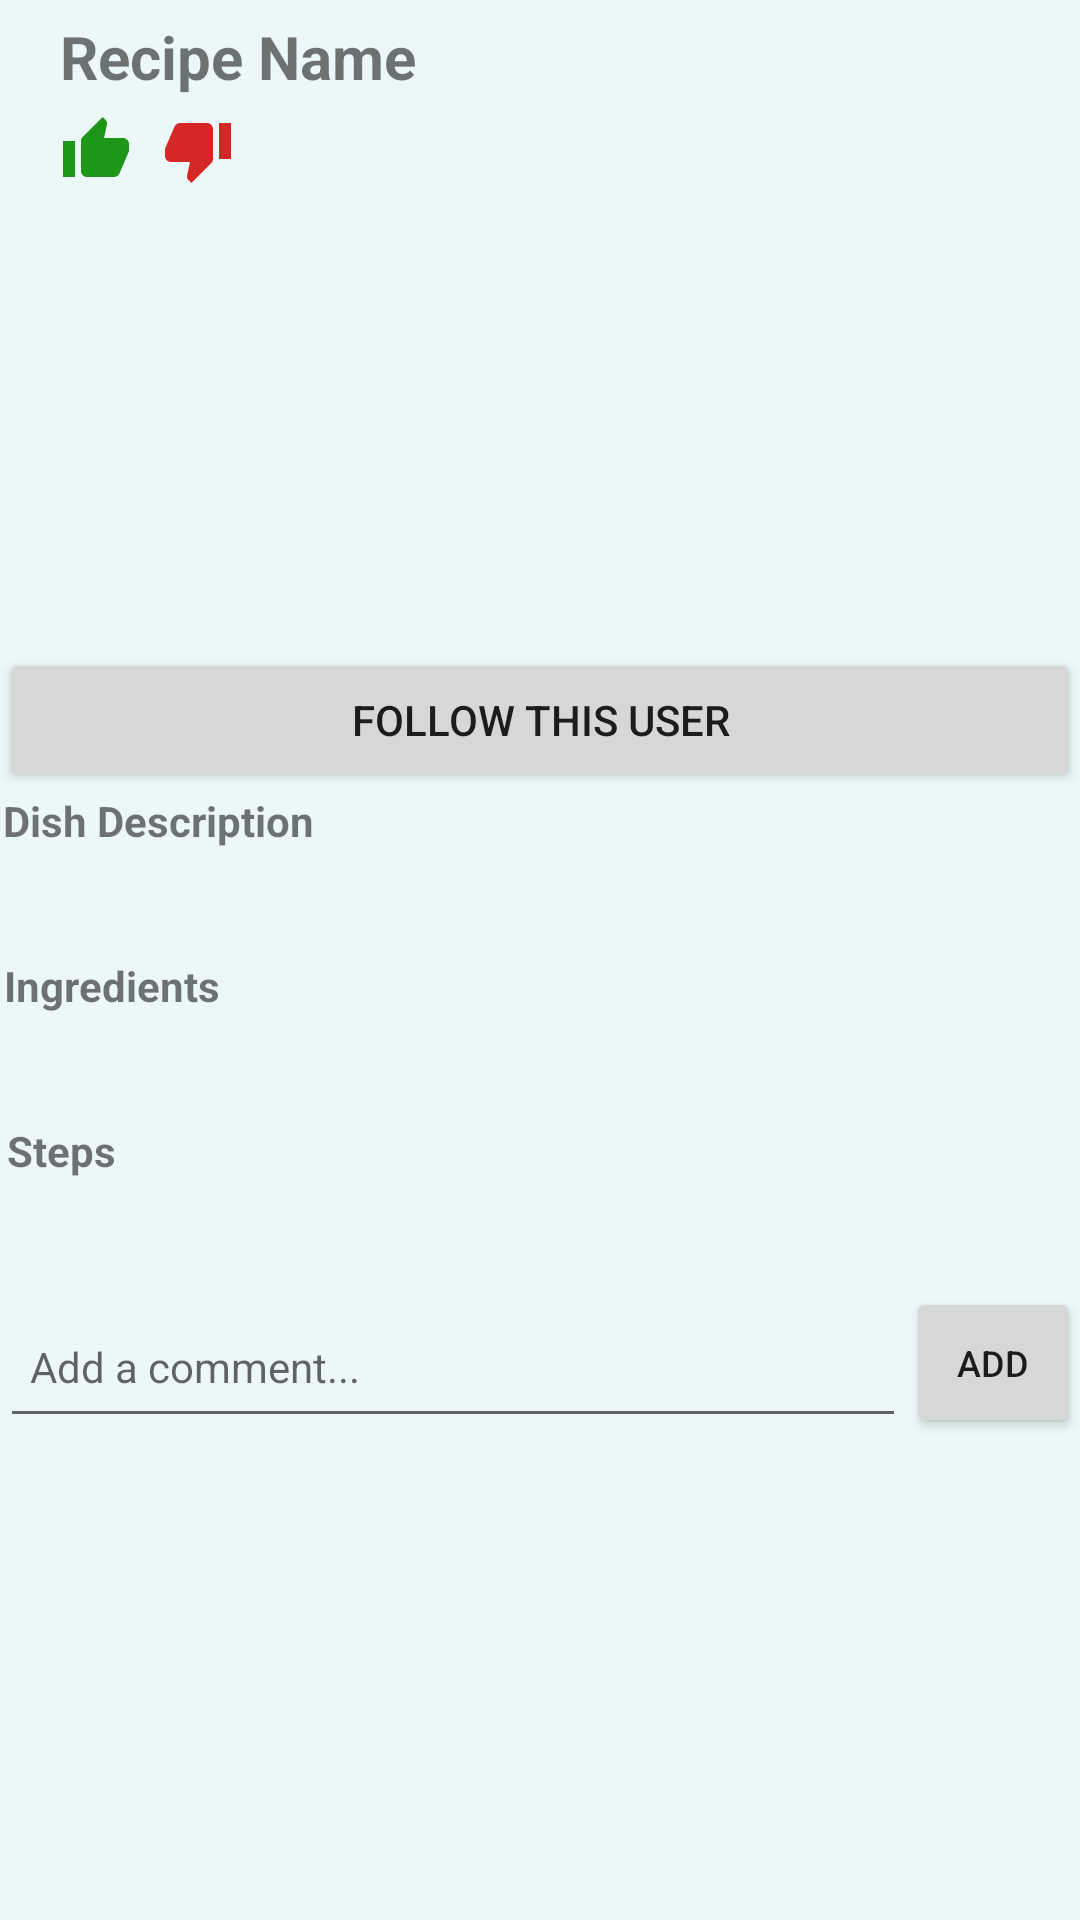

Icons on this 1080 × 1920 Android screen, each with its box as [x1, y1, x2, y2]:
thumb down: [165, 123, 231, 183]
thumb up: [63, 117, 129, 177]
